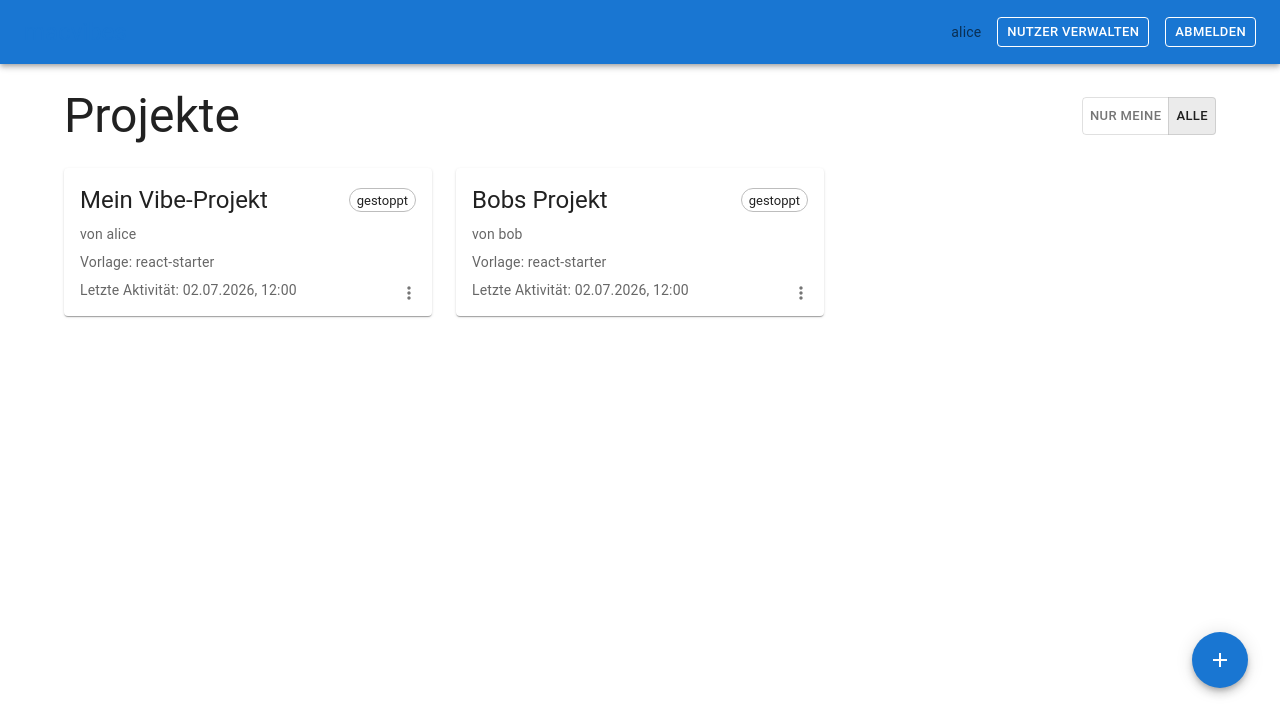
Test: ProjectsPage › Projektmenü (Umbenennen/Löschen) › Admins sehen auf fremden Karten zusätzlich Umbenennen/Löschen
The image size is (1280, 720).
expect the heading "Mein Vibe-Projekt" is shown: met, box [80,184,268,216]
expect the heading "Bobs Projekt" is shown: met, box [472,184,608,216]
Click the button with test id "project-menu-p2".
click(801, 293)  # box [786,278,816,308]
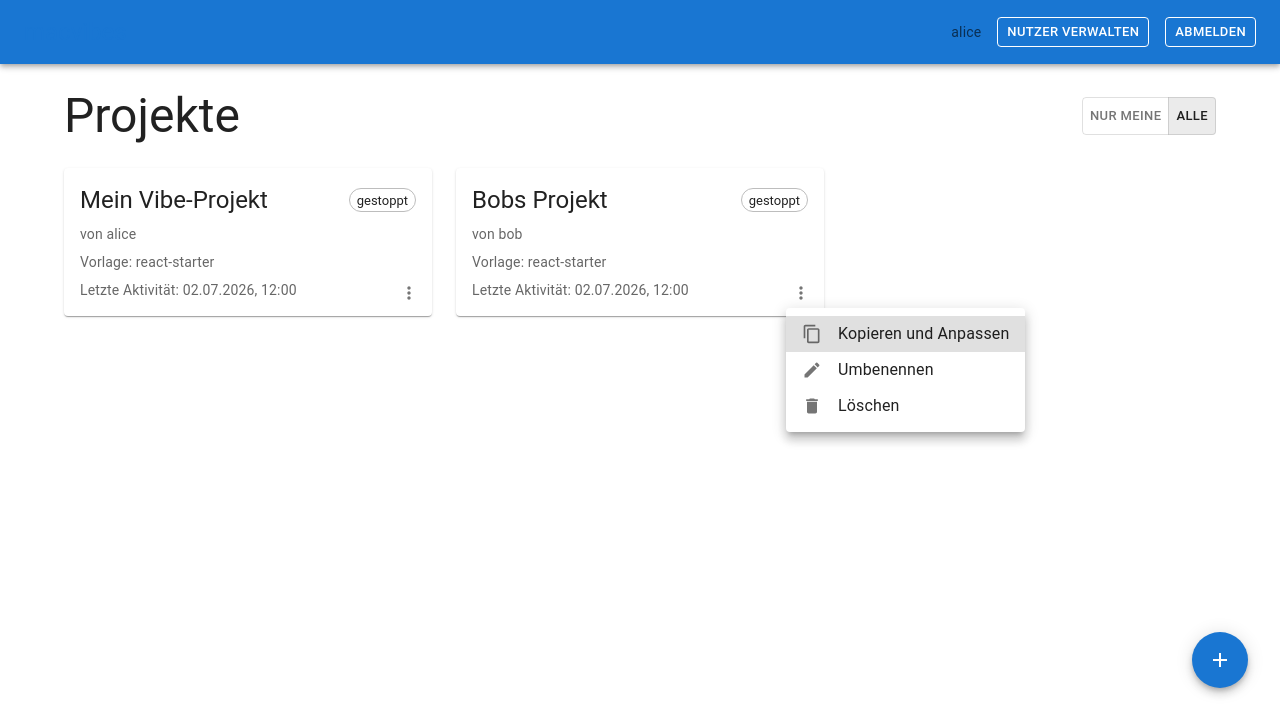
expect the menu item with test id "project-copy-p2" is shown: met, box [786,316,1026,352]
expect the menu item with test id "project-rename-p2" is shown: met, box [802,360,934,380]
expect the menu item with test id "project-delete-p2" is shown: met, box [802,396,900,416]
